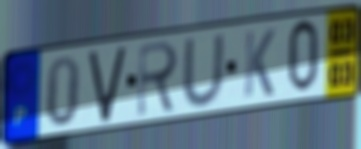0: (285, 16, 323, 98), (44, 54, 82, 128)
K: (242, 26, 277, 100)
R: (135, 38, 181, 120)
U: (180, 31, 226, 109)
V: (86, 42, 129, 126)
